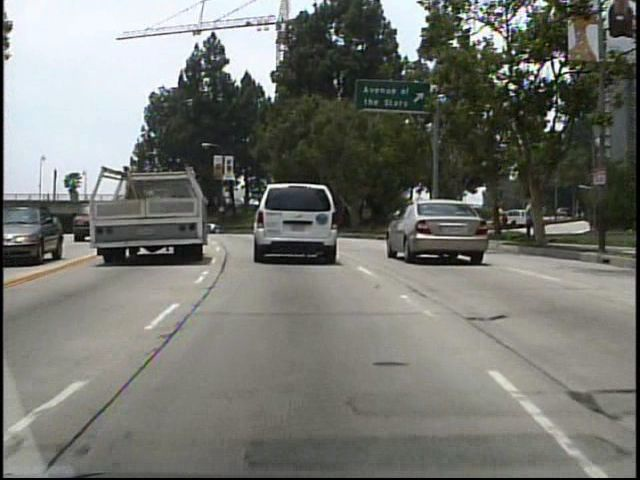person: (520, 192, 543, 245)
